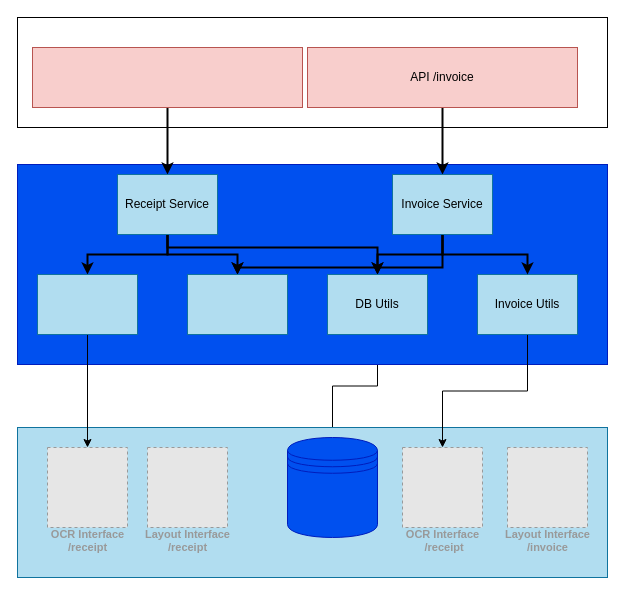
The diagram is 625 pixels wide and 595 high, and some of its shapes have lost their labels. Grey dashed boxes stand in for pictures. The centre of each missing label's shape, as x and y in pixels:
"Analytic DB" belongs at point (332, 487).
"API /receipt" belongs at point (167, 77).
"Common Utils" belongs at point (237, 304).
"Receipt Utils" belongs at point (87, 304).
